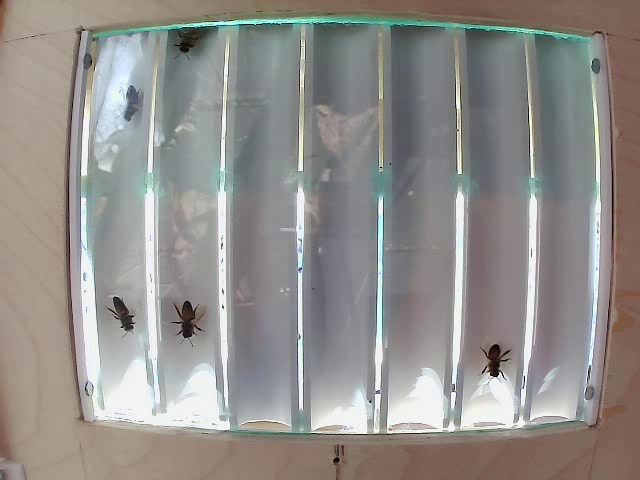bee: (164, 284, 210, 354), (165, 12, 209, 72), (484, 345, 525, 387), (109, 85, 147, 127), (110, 286, 145, 331)
